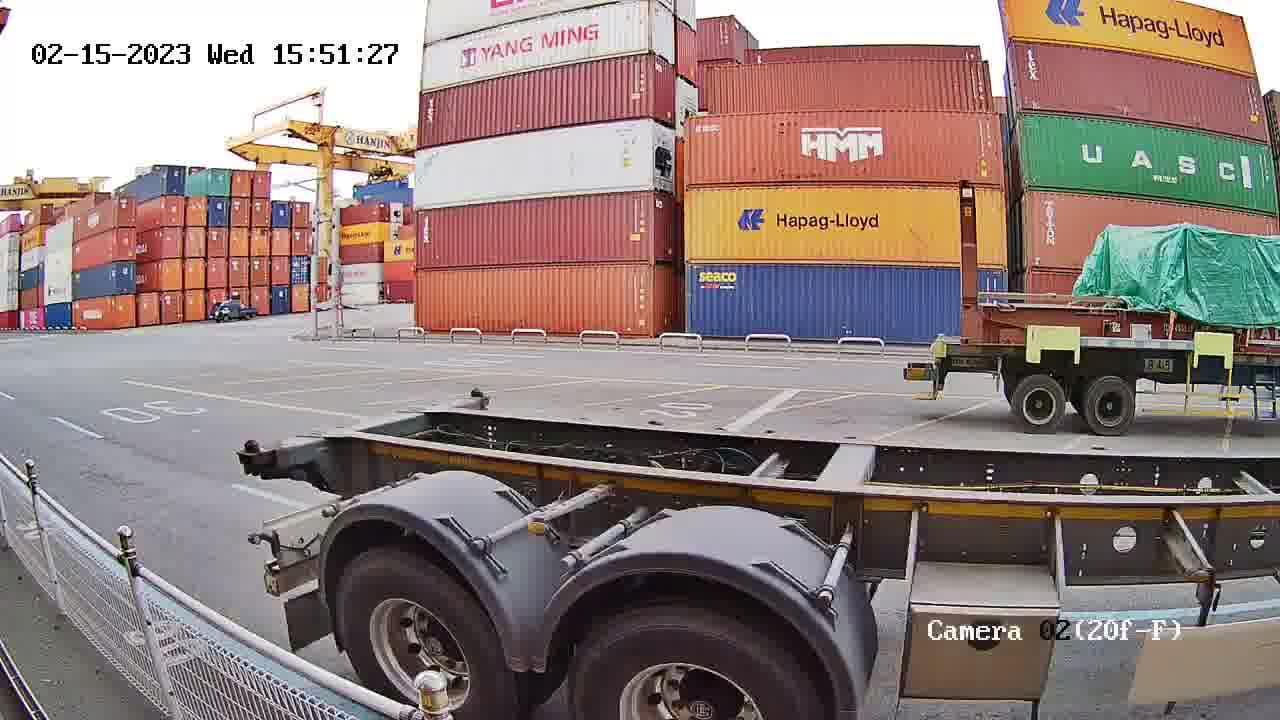Chassis: (244, 393, 479, 460)
Cone: (237, 438, 268, 474), (469, 385, 488, 412)
Tire: (336, 552, 517, 719), (571, 609, 823, 716)
